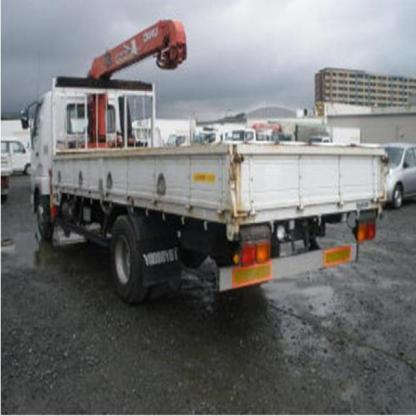truck: (21, 17, 388, 301)
